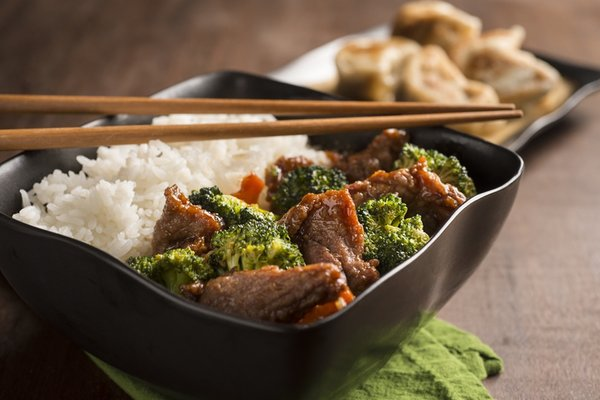curry: (190, 184, 306, 274), (199, 208, 305, 274), (356, 192, 430, 271), (259, 160, 349, 216), (395, 143, 478, 200), (129, 246, 217, 295), (189, 185, 244, 227)
sushi: (16, 118, 531, 395)
